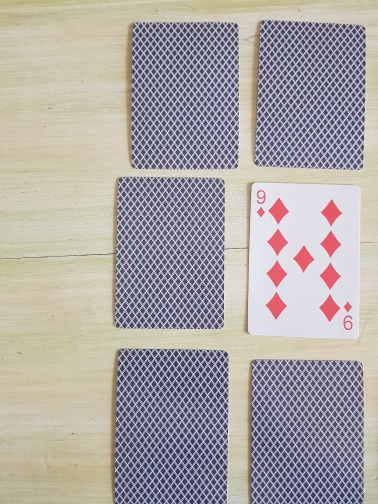nine: (246, 181, 363, 340)
